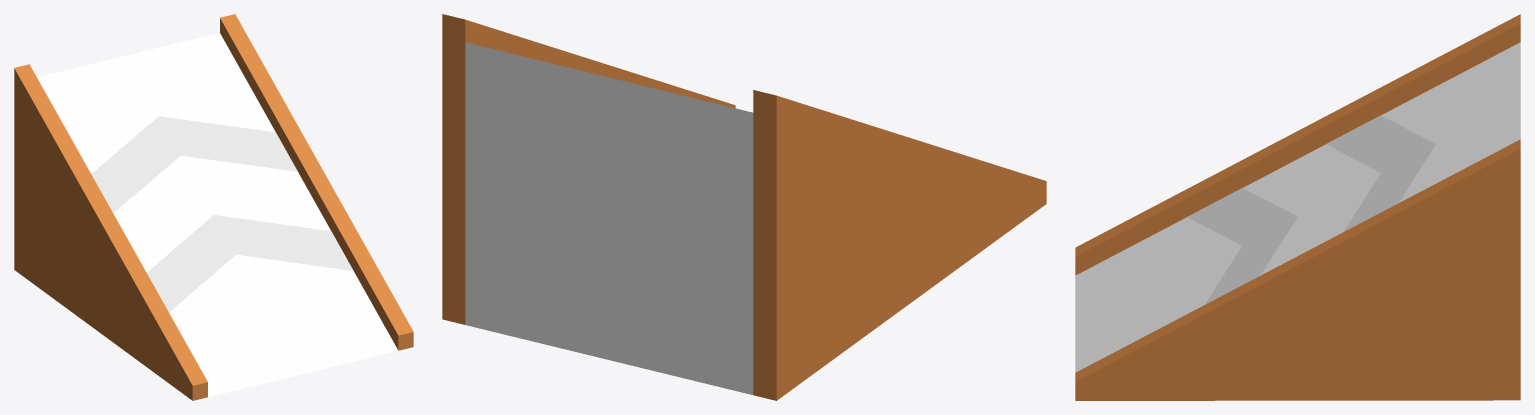
The model's file is Ramp.fbx.
3 renders of one model, left to right at view 1: azimuth 30°, elevation 25°; view 2: azimuth 150°, elevation 25°; view 3: azimuth 270°, elevation 25°, orthographic. The views are drawn at different scales.
Visible parts, largest first — view 1: Ramp, Ramp_Corner; view 2: Ramp, Ramp_Corner; view 3: Ramp_Corner, Ramp.
Boxes of the visible parts, <box> form: Ramp: <box>37,33,398,396</box>; Ramp_Corner: <box>14,14,413,400</box>; Ramp: <box>465,42,753,394</box>; Ramp_Corner: <box>442,14,1046,400</box>; Ramp_Corner: <box>1075,14,1520,400</box>; Ramp: <box>1075,42,1520,372</box>.
Size of the model in its own units: 232 by 203 by 324.
